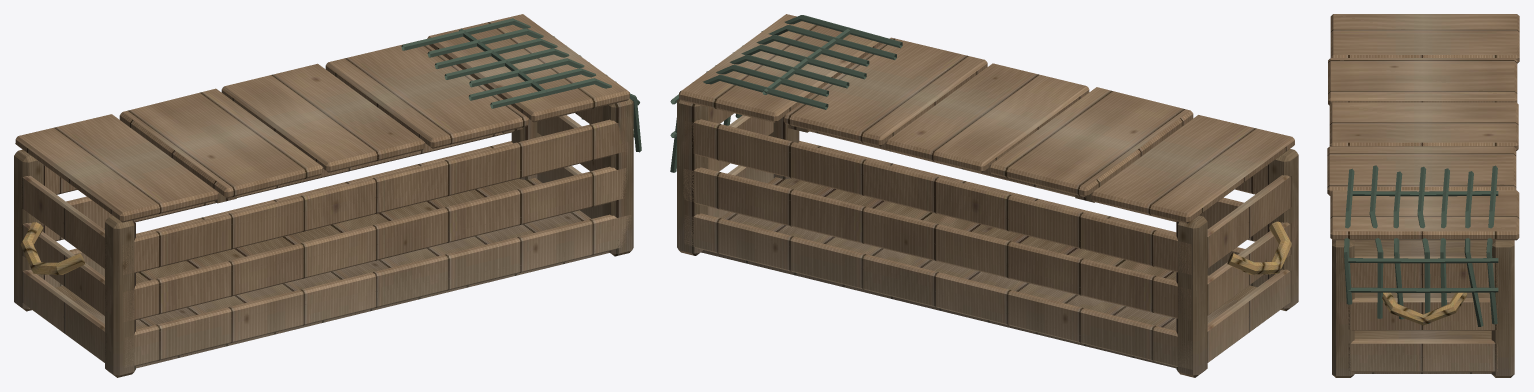
Rendered from crate.glb.
3 renders of one model, left to right at view 1: azimuth 30°, elevation 25°; view 2: azimuth 150°, elevation 25°; view 3: azimuth 270°, elevation 25°, orthographic. The views are drawn at different scales.
Parts seen in each view (by area): view 1: FishCrate; view 2: FishCrate; view 3: FishCrate.
Boxes of the visible parts, x1,y1,x2,y2 form: FishCrate: (14,14,641,377); FishCrate: (670,14,1298,377); FishCrate: (1327,14,1519,377).
Size of the model in its own units: 1.82 by 0.5245 by 0.5906.
4 materials, 3 textured.
